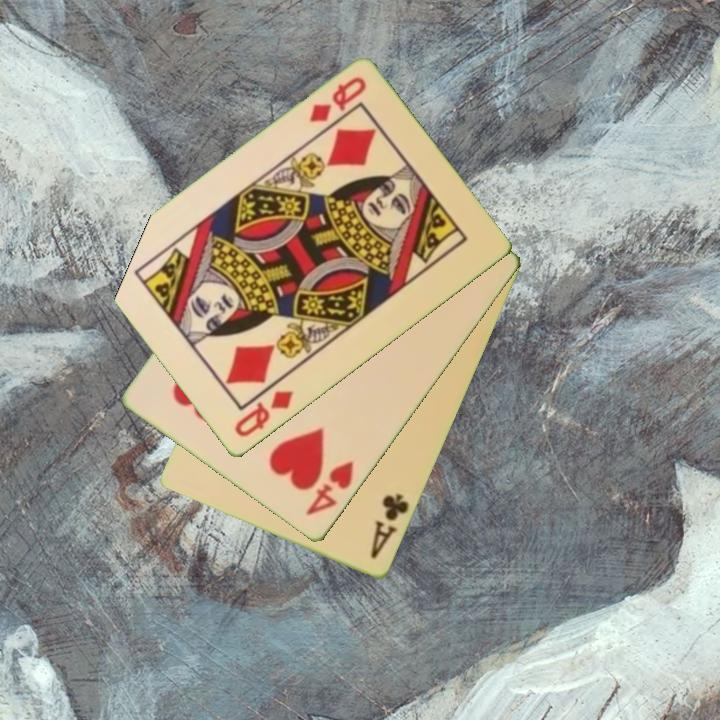4h: (302, 458, 357, 520)
Ac: (367, 490, 412, 562)
Qd: (230, 387, 297, 441), (305, 73, 370, 126)
